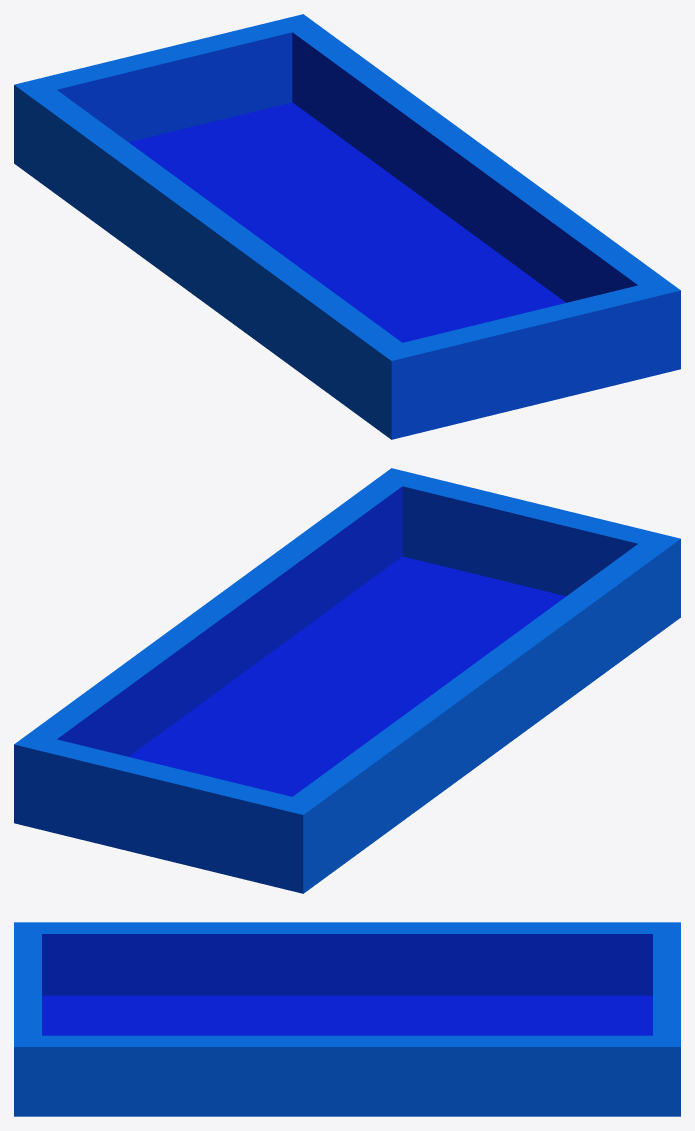
Rendered from NF_IT_Cell_BoxEmpty.fbx.
The picture shows the model from 3 angles, top to bottom: view 1: azimuth 30°, elevation 25°; view 2: azimuth 150°, elevation 25°; view 3: azimuth 270°, elevation 25°; orthographic projection. The views are drawn at different scales.
Parts seen in each view (by area): view 1: NF_IT_Cell_BoxEmpty; view 2: NF_IT_Cell_BoxEmpty; view 3: NF_IT_Cell_BoxEmpty.
Boxes of the visible parts, x1,y1,x2,y2 form: NF_IT_Cell_BoxEmpty: (14,14,680,439); NF_IT_Cell_BoxEmpty: (14,468,680,893); NF_IT_Cell_BoxEmpty: (14,922,680,1116).
Bounding box in the file's own units: 1.14 × 0.2978 × 2.59.
